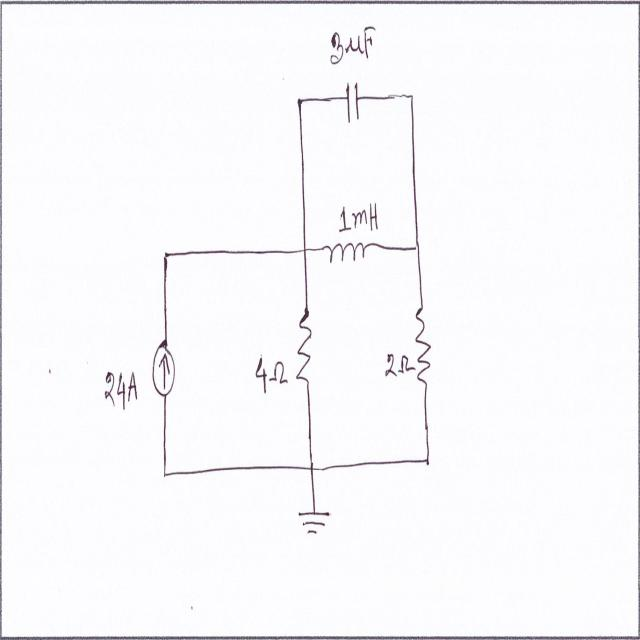capacitor: (342, 75, 362, 134)
current_source: (152, 342, 178, 404)
ground: (296, 502, 334, 549)
inductor: (321, 236, 369, 275)
resistor: (294, 302, 316, 396), (412, 300, 432, 394)
